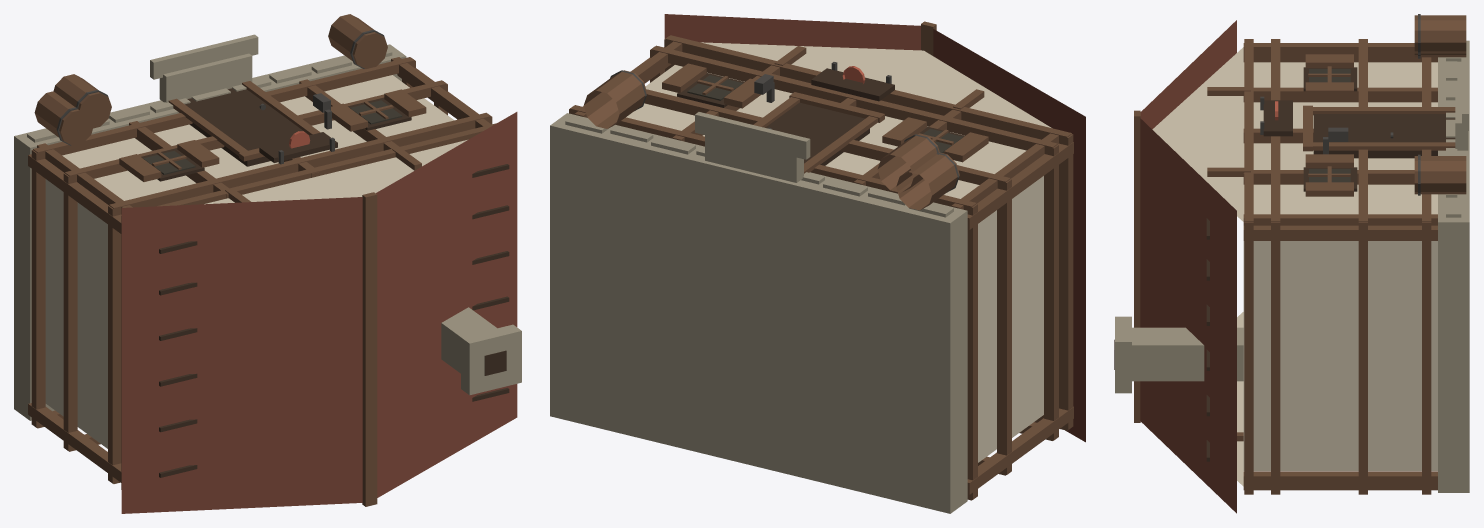
File: red_lion_blockout.obj
The picture shows the model from 3 angles, left to right: view 1: azimuth 30°, elevation 25°; view 2: azimuth 150°, elevation 25°; view 3: azimuth 270°, elevation 25°; orthographic projection. The views are drawn at different scales.
Parts seen in each view (by area): view 1: roof_slopes, timber_frame_bands, limewash_walls, foundation_stone, timber_frame_posts, door_front, tavern_barn_accessories, chimney, roof_ridge, windows_and_shutters, entrance_steps, gables (+2 smaller); view 2: foundation_stone, timber_frame_bands, limewash_walls, roof_slopes, gables, timber_frame_posts, tavern_barn_accessories, entrance_steps, door_front, windows_and_shutters, red_lion_sign; view 3: limewash_walls, roof_slopes, timber_frame_bands, timber_frame_posts, foundation_stone, gables, door_front, chimney, windows_and_shutters, tavern_barn_accessories, roof_ridge, red_lion_sign (+3 smaller).
Boxes of the visible parts, left/top/right/bottom form: roof_slopes: left=121, top=112, right=517, bottom=513; timber_frame_bands: left=31, top=57, right=496, bottom=489; limewash_walls: left=45, top=75, right=454, bottom=448; foundation_stone: left=14, top=44, right=406, bottom=420; timber_frame_posts: left=28, top=57, right=492, bottom=482; door_front: left=168, top=81, right=320, bottom=166; tavern_barn_accessories: left=34, top=14, right=387, bottom=145; chimney: left=441, top=307, right=521, bottom=395; roof_ridge: left=362, top=192, right=377, bottom=506; windows_and_shutters: left=119, top=89, right=426, bottom=181; entrance_steps: left=150, top=34, right=258, bottom=102; gables: left=204, top=140, right=467, bottom=204; foundation_stone: left=550, top=113, right=967, bottom=513; timber_frame_bands: left=569, top=35, right=1073, bottom=500; limewash_walls: left=626, top=65, right=1043, bottom=462; roof_slopes: left=664, top=14, right=1085, bottom=442; gables: left=701, top=42, right=1051, bottom=127; timber_frame_posts: left=574, top=41, right=1073, bottom=494; tavern_barn_accessories: left=583, top=70, right=959, bottom=210; entrance_steps: left=695, top=112, right=810, bottom=182; door_front: left=753, top=92, right=884, bottom=173; windows_and_shutters: left=662, top=63, right=988, bottom=162; red_lion_sign: left=811, top=62, right=894, bottom=101; limewash_walls: left=1243, top=62, right=1437, bottom=470; roof_slopes: left=1140, top=20, right=1236, bottom=513; timber_frame_bands: left=1244, top=39, right=1431, bottom=494; timber_frame_posts: left=1243, top=43, right=1437, bottom=490; foundation_stone: left=1438, top=40, right=1469, bottom=492; gables: left=1152, top=47, right=1250, bottom=486; door_front: left=1303, top=105, right=1455, bottom=158; chimney: left=1114, top=316, right=1243, bottom=393; windows_and_shutters: left=1303, top=54, right=1357, bottom=196; tavern_barn_accessories: left=1414, top=14, right=1466, bottom=195; roof_ridge: left=1134, top=110, right=1140, bottom=422; red_lion_sign: left=1260, top=96, right=1292, bottom=136.
Size of the model in its own units: 6.81 by 5.61 by 5.35.
